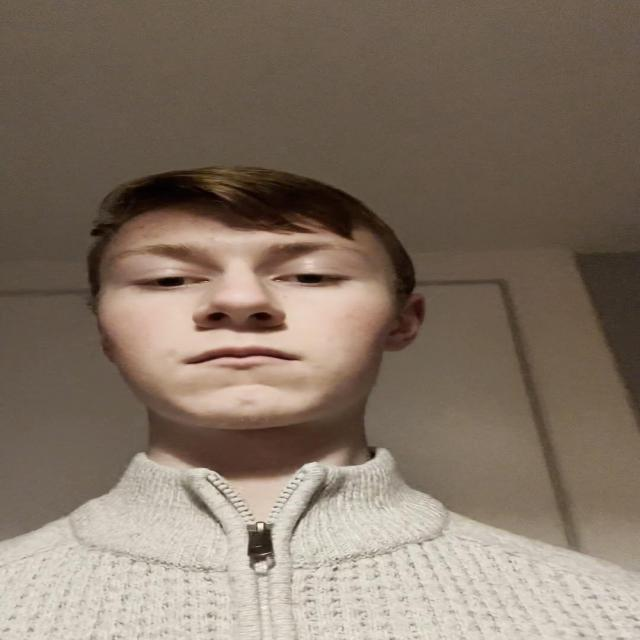no-helmet: (81, 172, 424, 454)
